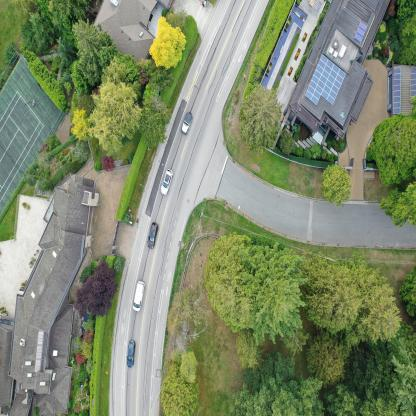Coniferous Tree: (209, 223, 303, 342), (345, 252, 401, 340), (304, 254, 357, 319), (158, 360, 216, 416), (371, 112, 416, 183), (92, 88, 139, 155), (167, 291, 209, 354), (242, 89, 280, 149), (72, 21, 118, 58), (309, 344, 347, 386), (388, 174, 416, 228), (398, 335, 416, 416), (138, 98, 169, 138), (103, 57, 136, 92), (399, 259, 416, 320), (27, 13, 59, 44), (234, 332, 262, 367), (82, 47, 102, 86), (50, 0, 97, 16), (25, 167, 54, 190), (61, 18, 78, 53), (286, 328, 306, 355), (280, 132, 295, 157), (71, 144, 90, 162), (76, 95, 94, 113), (36, 151, 54, 167)
Deciduous Tree: (230, 360, 324, 416), (354, 354, 402, 416), (147, 19, 188, 73), (76, 262, 115, 317), (323, 165, 351, 208), (325, 389, 356, 416), (70, 110, 93, 146)
